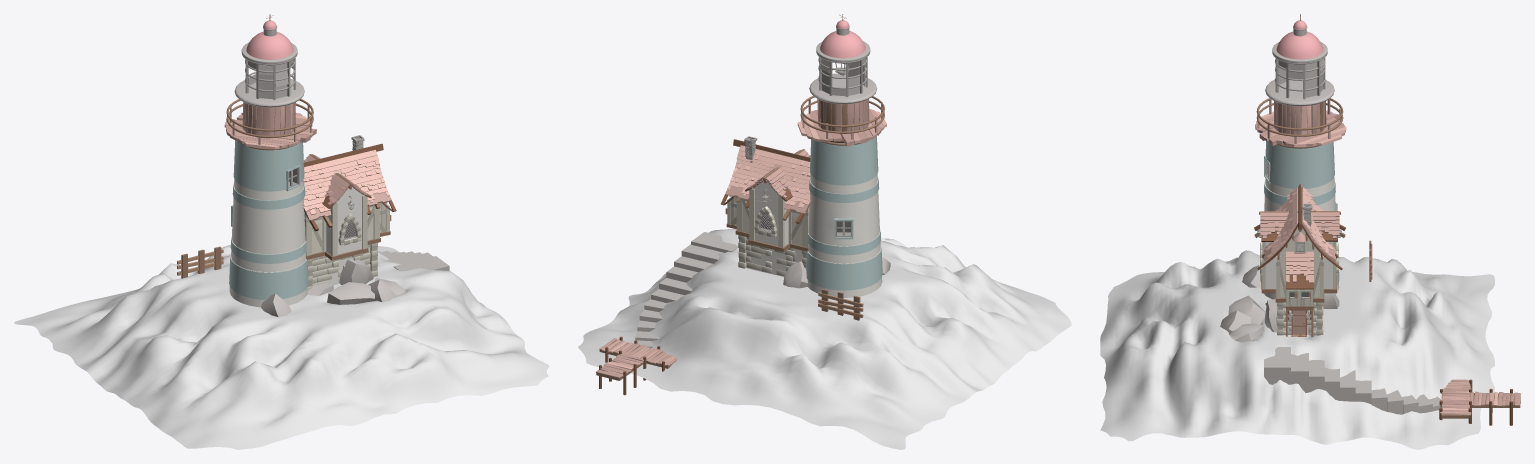
File: lighthouse.gltf
3 renders of one model, left to right at view 1: azimuth 30°, elevation 25°; view 2: azimuth 150°, elevation 25°; view 3: azimuth 270°, elevation 25°, orthographic. The views are drawn at different scales.
Parts seen in each view (by area): view 1: Landscape, Cylinder_19, Cylinder_4, Sphere, Cylinder_6, Cube_259_2, Cube_4_5, Cube_260_2, Cube_303_4; view 2: Landscape, Cylinder_19, Cylinder_4, Cylinder_6, Sphere, Cube_64_2, Cube_6_5, Cube_303_4, Cube_296_2, Cube_304_4; view 3: Landscape, Cylinder_19, Cylinder_6, Sphere, Cylinder_4, Cube_303_4, Cube_304_4, Cube_259_2, Cube_305_2, Cube_293_2, Cube_5_5, Cube_307_2 (+2 smaller).
Part boxes in pixels (bbox=[...]): Landscape: bbox=[14, 244, 549, 449]; Cylinder_19: bbox=[229, 140, 308, 299]; Cylinder_4: bbox=[229, 179, 307, 307]; Sphere: bbox=[246, 31, 293, 59]; Cylinder_6: bbox=[234, 78, 304, 107]; Cube_259_2: bbox=[327, 282, 374, 304]; Cube_4_5: bbox=[326, 203, 361, 254]; Cube_260_2: bbox=[339, 259, 373, 284]; Cube_303_4: bbox=[393, 256, 449, 271]; Landscape: bbox=[578, 228, 1071, 449]; Cylinder_19: bbox=[806, 136, 882, 290]; Cylinder_4: bbox=[807, 173, 882, 297]; Cylinder_6: bbox=[809, 73, 877, 104]; Sphere: bbox=[820, 31, 865, 58]; Cube_64_2: bbox=[755, 196, 788, 245]; Cube_6_5: bbox=[746, 237, 802, 276]; Cube_303_4: bbox=[691, 232, 738, 252]; Cube_296_2: bbox=[783, 261, 807, 288]; Cube_304_4: bbox=[681, 244, 723, 263]; Landscape: bbox=[1100, 250, 1494, 449]; Cylinder_19: bbox=[1260, 141, 1339, 284]; Cylinder_6: bbox=[1265, 79, 1334, 106]; Sphere: bbox=[1276, 31, 1323, 59]; Cylinder_4: bbox=[1261, 177, 1339, 299]; Cube_303_4: bbox=[1264, 347, 1290, 384]; Cube_304_4: bbox=[1289, 353, 1308, 392]; Cube_259_2: bbox=[1228, 295, 1265, 324]; Cube_305_2: bbox=[1309, 360, 1324, 392]; Cube_293_2: bbox=[1229, 323, 1264, 342]; Cube_5_5: bbox=[1277, 227, 1320, 273]; Cube_307_2: bbox=[1339, 370, 1355, 401].
Bounding box in the file's own units: 80.14 × 71.56 × 79.89.
